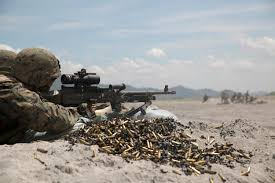gun: (31, 68, 176, 116)
